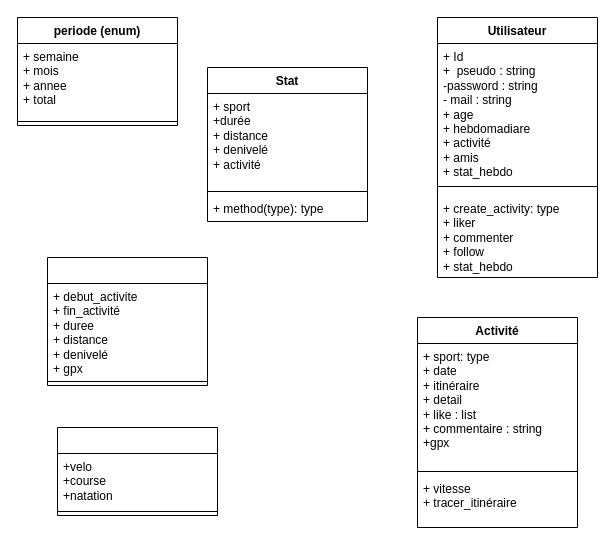
This 615x548 diagram has some shape labels left out. The shapes that lost their labels are listed below. From the top down, each one's box as (x1, y1, x2, y2) in pixels, then its label:
(46, 256, 208, 386): Detail (value object)
(56, 426, 218, 516): Sport (enum)
